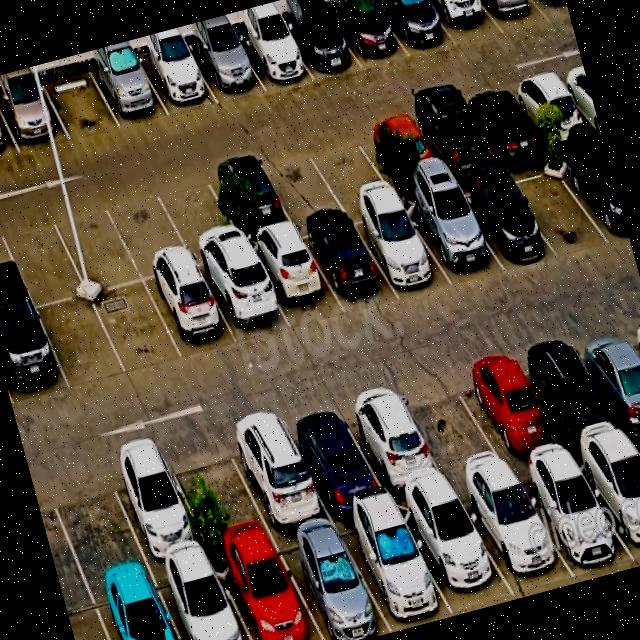empty: (390, 363, 512, 488), (41, 455, 148, 586), (160, 428, 272, 553), (503, 153, 610, 254), (152, 168, 247, 267), (48, 196, 142, 294), (103, 184, 195, 280), (91, 281, 183, 375), (0, 210, 87, 307), (37, 296, 126, 390), (255, 141, 344, 221), (303, 128, 392, 206), (41, 68, 120, 140)
occupied: (334, 505, 453, 632), (514, 458, 635, 578), (396, 492, 515, 613), (456, 473, 574, 595), (452, 347, 568, 471), (220, 407, 332, 535), (271, 523, 391, 640), (335, 382, 451, 501), (100, 441, 209, 567), (277, 397, 389, 519), (519, 331, 629, 453), (210, 539, 323, 640), (245, 227, 344, 331), (449, 172, 554, 270), (400, 187, 505, 285), (297, 213, 398, 313), (348, 201, 452, 296), (572, 438, 640, 566), (144, 268, 238, 360), (151, 555, 250, 640), (569, 319, 640, 437), (198, 255, 291, 344), (554, 140, 630, 243), (405, 98, 499, 180), (203, 154, 293, 238), (0, 305, 70, 407), (355, 113, 445, 189), (460, 83, 547, 160), (507, 70, 593, 145), (89, 570, 180, 640), (279, 8, 362, 79), (89, 57, 169, 128), (136, 47, 218, 116), (327, 0, 409, 69), (232, 24, 313, 90), (0, 80, 70, 153), (188, 36, 264, 103), (376, 0, 457, 56), (425, 0, 503, 47), (479, 0, 549, 33), (534, 0, 570, 20)
